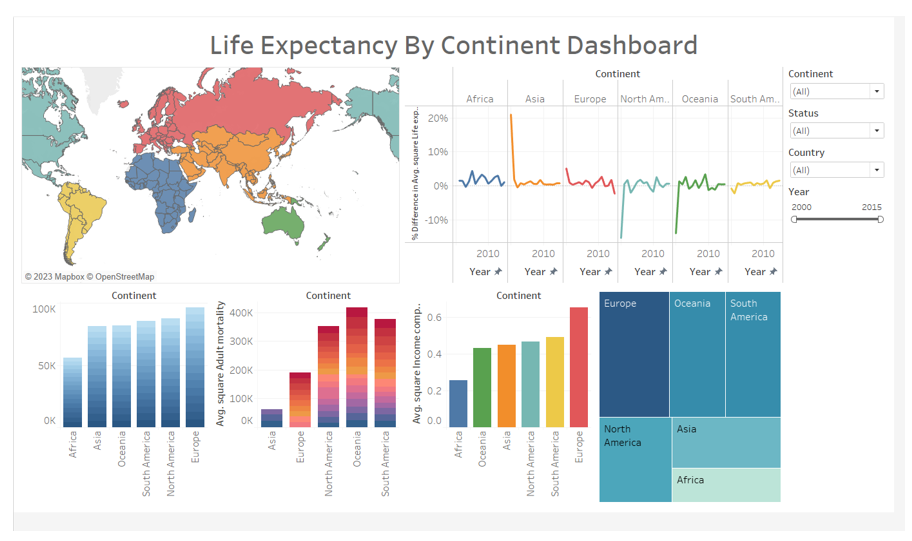

What the dashboard file says about the page in this screenshot:
{"tool":"tableau","page":{"name":"Life Expectancy Dashboard","canvas":[1366,768],"ordinal":0},"visuals":[{"type":"text","box":[8,8,1350,65]},{"type":"worksheet","title":"Map View of Life Expectancy by Country, Continent and Status","mark":"Multipolygon","box":[8,73,595,343.5]},{"type":"worksheet","title":"Life Expectancy Over Time across the continents","mark":"Automatic","rows":["square_Life_expectancy"],"cols":["Continent","Year"],"box":[603,73,595,343.5]},{"type":"filter","title":"Life Expectancy Over Time across the continents","param":"[federated.1pkqj7x1d3492h12sejfd1cnqqg5].[none:Continent:nk]","box":[1198,73,160,61]},{"type":"filter","title":"Life Expectancy Over Time across the continents","param":"[federated.1pkqj7x1d3492h12sejfd1cnqqg5].[none:Status:nk]","box":[1198,134,160,61]},{"type":"filter","title":"Life Expectancy Over Time across the continents","param":"[federated.1pkqj7x1d3492h12sejfd1cnqqg5].[none:Country:nk]","box":[1198,195,160,61]},{"type":"filter","title":"Life Expectancy Over Time across the continents","param":"[federated.1pkqj7x1d3492h12sejfd1cnqqg5].[none:Year:qk]","box":[1198,256,160,73]},{"type":"worksheet","title":"Life Expectancy by Continent","mark":"Automatic","rows":["square_Life_expectancy"],"cols":["Continent"],"box":[8,416.5,297.5,343.5]},{"type":"worksheet","title":"Adult Mortality  Per Year","mark":"Automatic","rows":["square_Adult_mortality"],"cols":["Continent"],"box":[305.5,416.5,297.5,343.5]},{"type":"worksheet","title":"Income Composition of Resoures per Continent","mark":"Automatic","rows":["square_Income_composition_of_resources"],"cols":["Continent"],"box":[603,416.5,297.5,343.5]},{"type":"worksheet","title":"Schooling per Continent","mark":"Automatic","box":[900.5,416.5,297.5,343.5]}]}

Visuals, with their boxes on the page's 1366x768 design canvas (x1, y1, x2, y2). These are canvas units, not pixel positions in the 912x541 screenshot, which may show the page scaled, cropped or inside an application window:
text: {"x1": 8, "y1": 8, "x2": 1358, "y2": 73}
"Map View of Life Expectancy by Country, Continent and Status" worksheet (Multipolygon marks): {"x1": 8, "y1": 73, "x2": 603, "y2": 416}
"Life Expectancy Over Time across the continents" worksheet: {"x1": 603, "y1": 73, "x2": 1198, "y2": 416}
"Life Expectancy Over Time across the continents" filter: {"x1": 1198, "y1": 73, "x2": 1358, "y2": 134}
"Life Expectancy Over Time across the continents" filter: {"x1": 1198, "y1": 134, "x2": 1358, "y2": 195}
"Life Expectancy Over Time across the continents" filter: {"x1": 1198, "y1": 195, "x2": 1358, "y2": 256}
"Life Expectancy Over Time across the continents" filter: {"x1": 1198, "y1": 256, "x2": 1358, "y2": 329}
"Life Expectancy by Continent" worksheet: {"x1": 8, "y1": 416, "x2": 306, "y2": 760}
"Adult Mortality  Per Year" worksheet: {"x1": 306, "y1": 416, "x2": 603, "y2": 760}
"Income Composition of Resoures per Continent" worksheet: {"x1": 603, "y1": 416, "x2": 900, "y2": 760}
"Schooling per Continent" worksheet: {"x1": 900, "y1": 416, "x2": 1198, "y2": 760}
